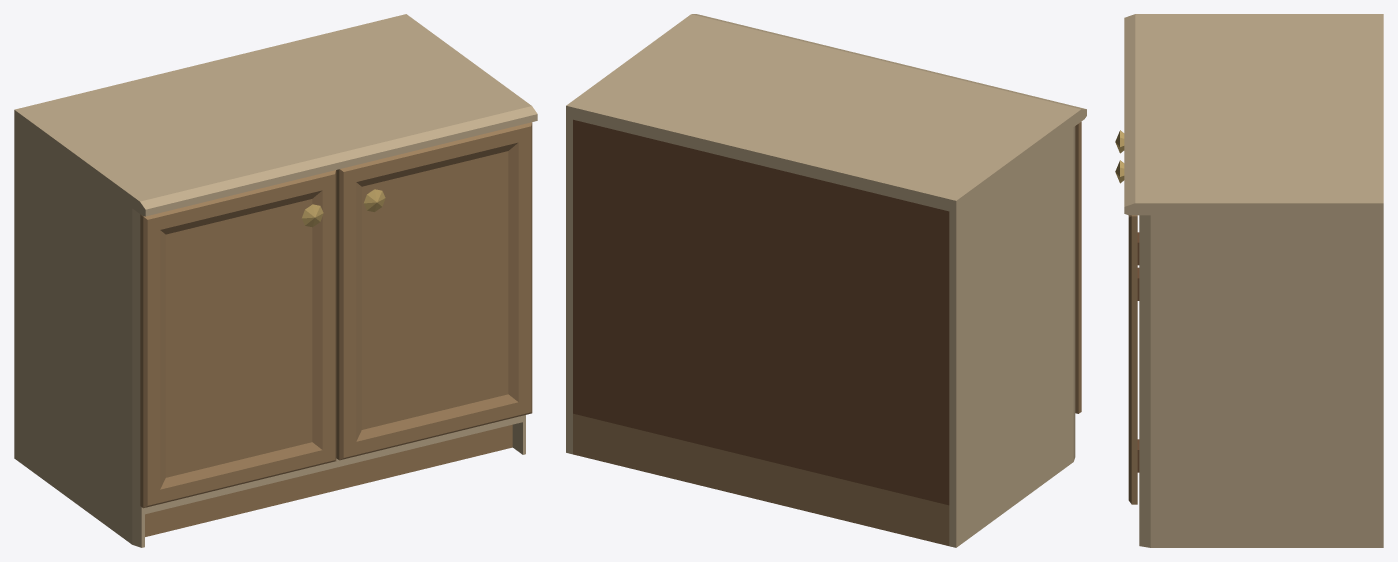
File: base-cabinet-run-71d050.glb
3 views of the same model, side by side, from view 1: azimuth 30°, elevation 25°; view 2: azimuth 150°, elevation 25°; view 3: azimuth 270°, elevation 25° (orthographic).
Visible parts, largest first — view 1: base-cabinet-run, door-l, door-r; view 2: base-cabinet-run, door-l; view 3: base-cabinet-run, door-r.
Boxes of the visible parts, x1=… form: base-cabinet-run: x1=14, y1=14, x2=537, y2=547; door-l: x1=140, y1=170, x2=336, y2=508; door-r: x1=336, y1=122, x2=532, y2=460; base-cabinet-run: x1=566, y1=14, x2=1086, y2=547; door-l: x1=1075, y1=121, x2=1081, y2=413; base-cabinet-run: x1=1124, y1=14, x2=1383, y2=547; door-r: x1=1115, y1=160, x2=1139, y2=504.
Bounding box in the file's own units: 1 × 0.85 × 0.6.
